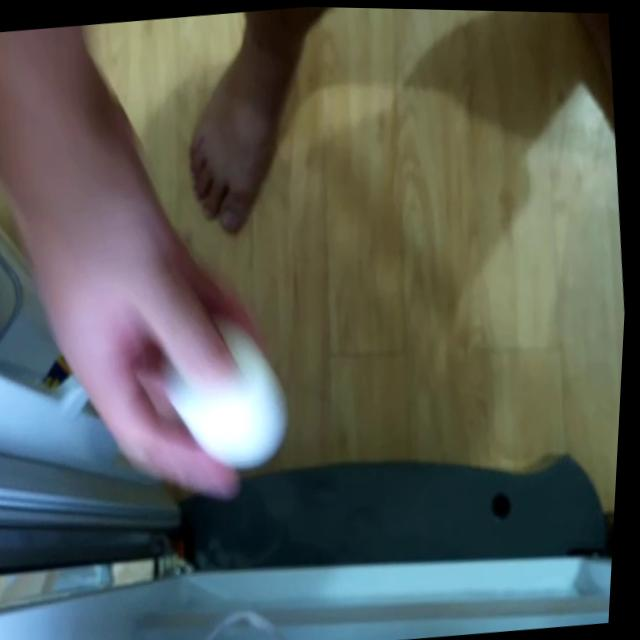egg: (173, 327, 293, 471)
